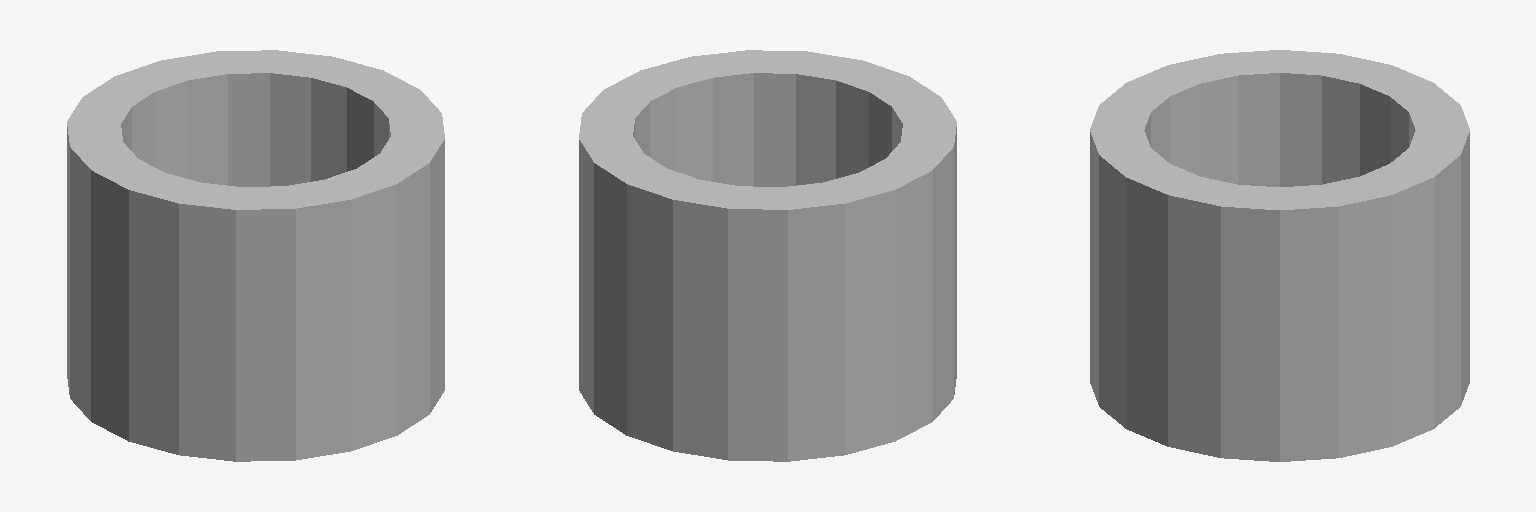
The model's file is deletedWaypoint.obj.
3 views of the same model, side by side, from view 1: azimuth 30°, elevation 25°; view 2: azimuth 150°, elevation 25°; view 3: azimuth 270°, elevation 25° (orthographic).
Parts seen in each view (by area): view 1: pPipe1; view 2: pPipe1; view 3: pPipe1.
Boxes of the visible parts, x1=… form: pPipe1: x1=67, y1=50, x2=444, y2=461; pPipe1: x1=579, y1=50, x2=956, y2=461; pPipe1: x1=1090, y1=50, x2=1469, y2=461.
Bounding box in the file's own units: 2.09 × 1.53 × 2.09.